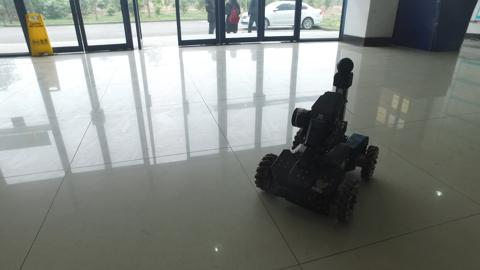car: (238, 1, 324, 30)
chariot: (253, 56, 379, 225)
